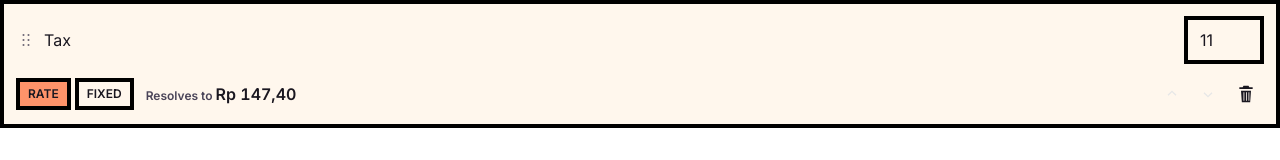
Scenario: AdjustmentRow › resyncs the rate field to the real value on blur after an invalid edit
Clear the 2nd field showing "11". click: (1224, 40)
box: [1184,16,1264,64]
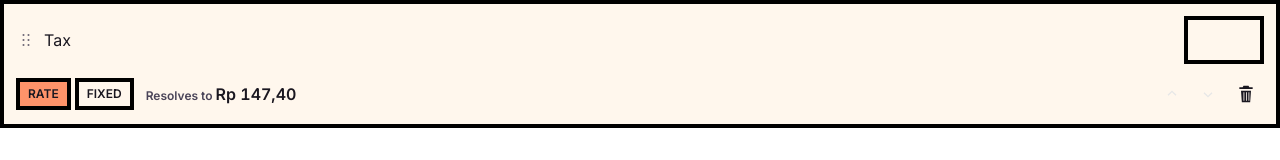
Leave the 2nd field showing "11", box [1184,16,1264,64]
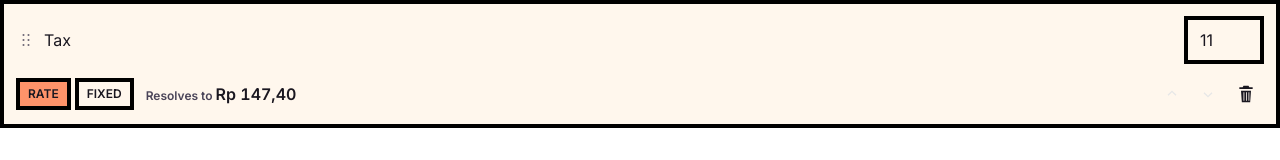
Expected: the 2nd field showing "11" is shown, [1184,16,1264,64]
